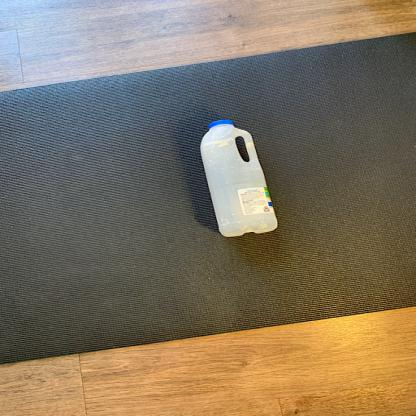trash: (196, 119, 280, 238)
